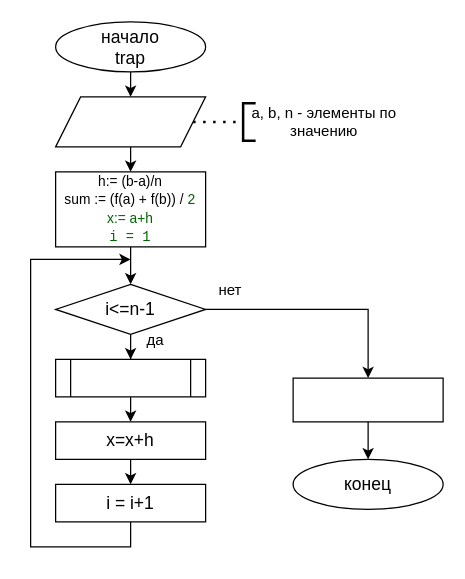
The diagram is 465 pixels wide and 579 high, and some of its shapes have lost their labels. Here are the shapes that lost their labels. From the top down, the box of each, then its label:
(54, 96, 206, 147): a, b, n
(54, 358, 206, 397): f sum=sum+f(x)
(292, 377, 443, 422): trap:= h * sum
